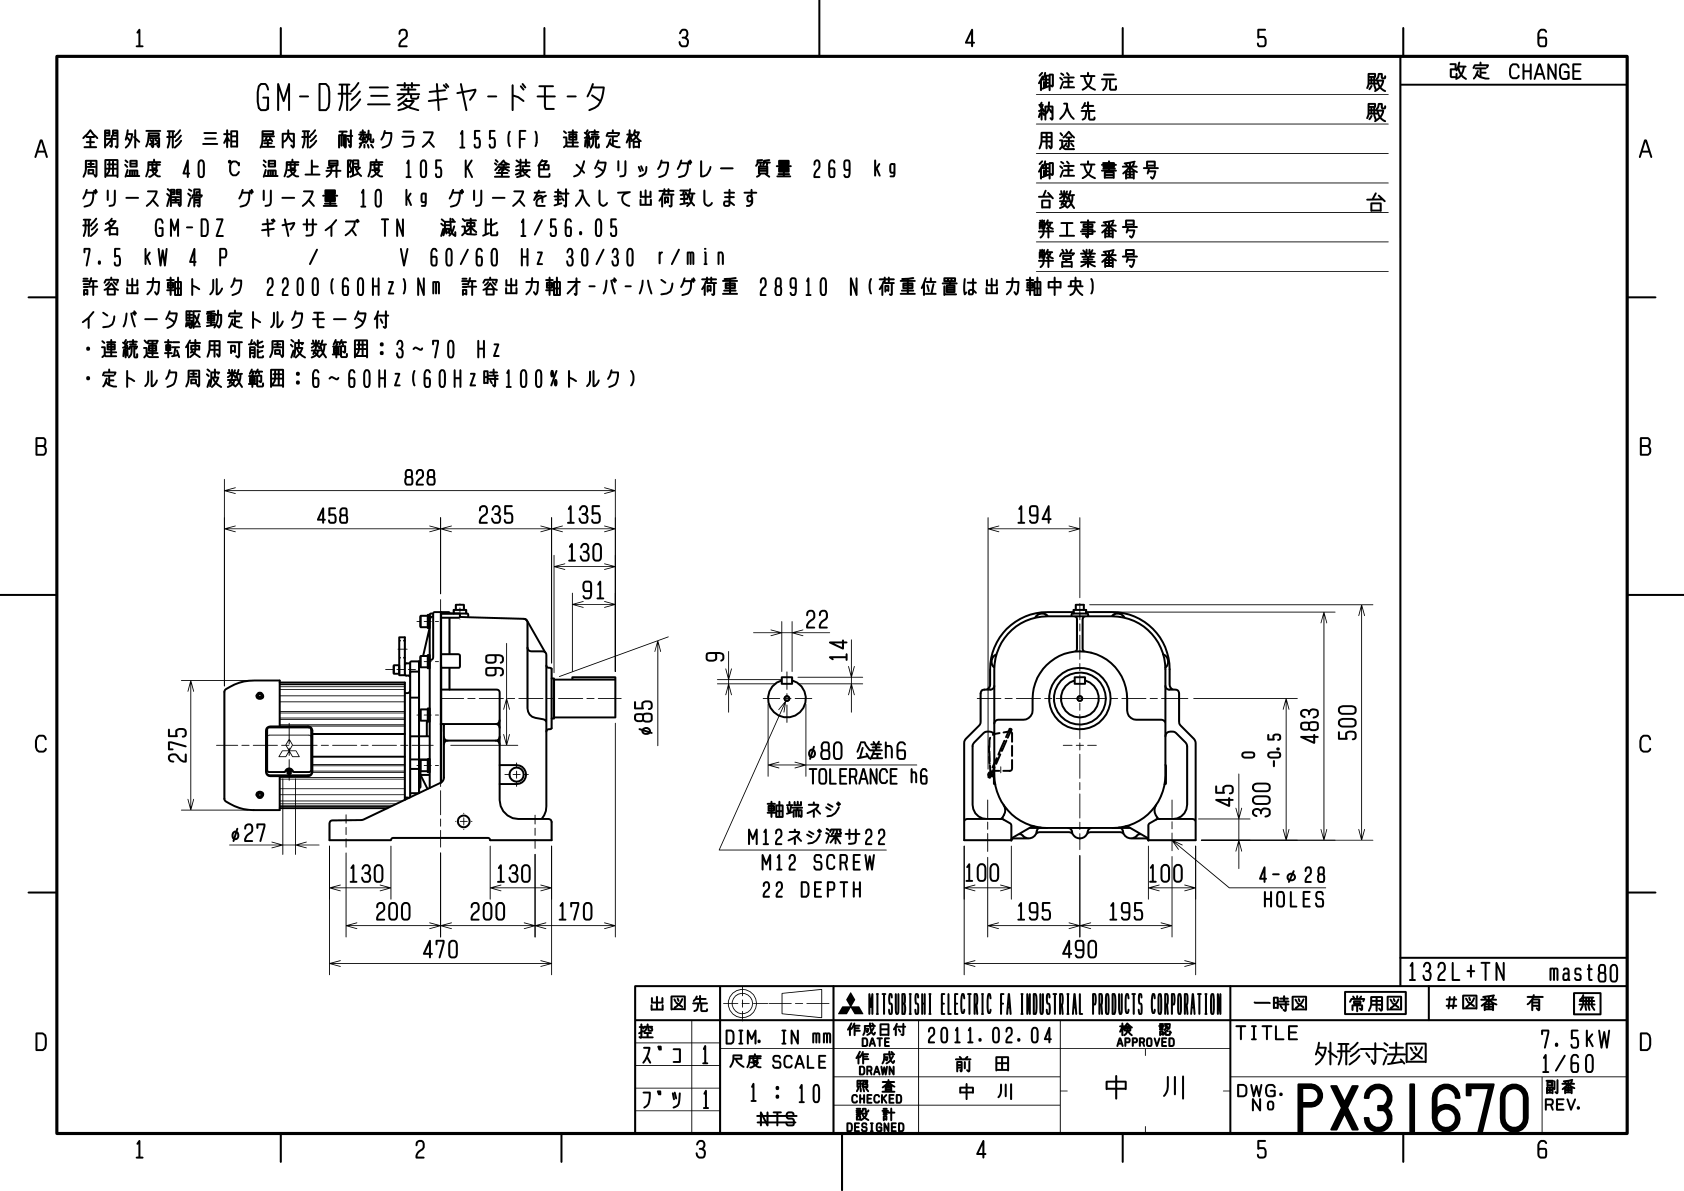GM_D_インバータ屋内_三相_脚: (79, 434, 1395, 973)
